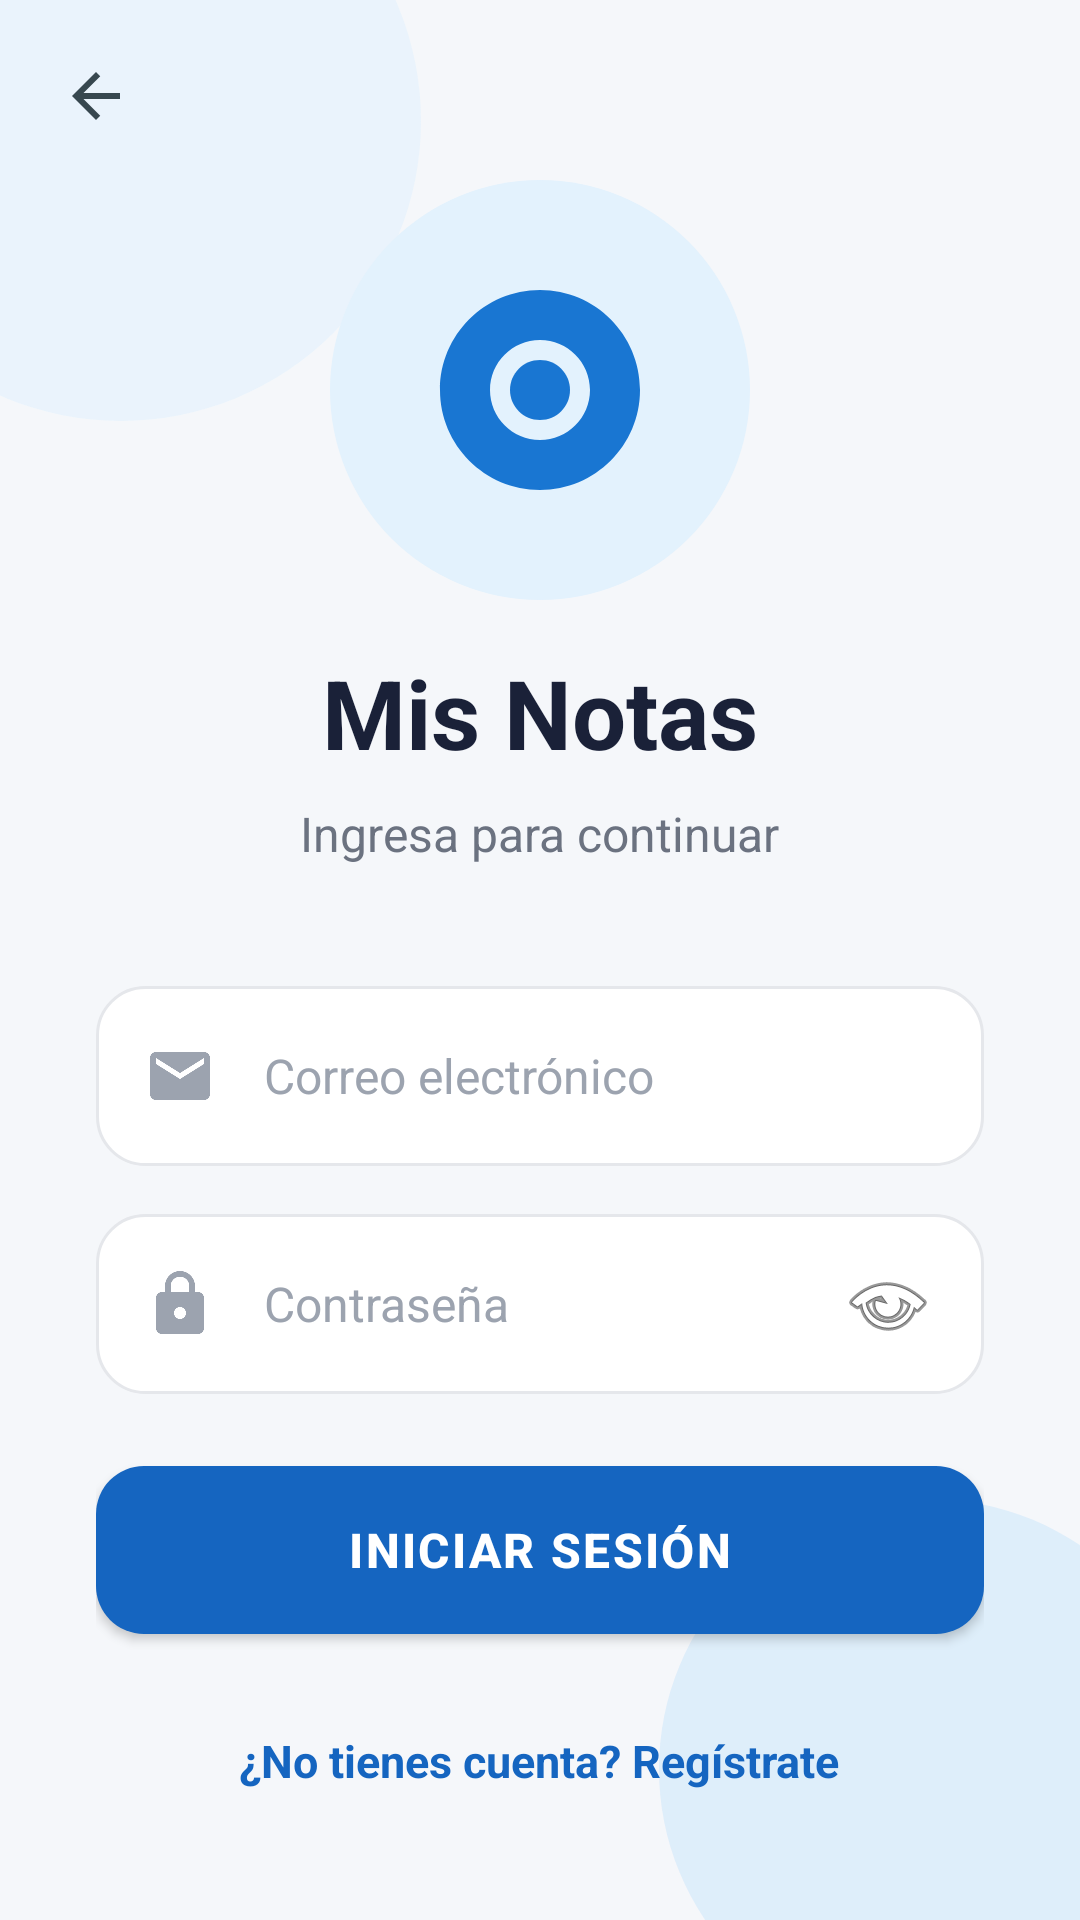

Icons on this 1080 x 1920 Android screen, each with its box as (x1, y1, x2, y2):
email: (150, 1052, 210, 1100)
lock: (156, 1271, 204, 1334)
Toggle password: (849, 1282, 927, 1331)
Volver: (72, 72, 120, 120)
